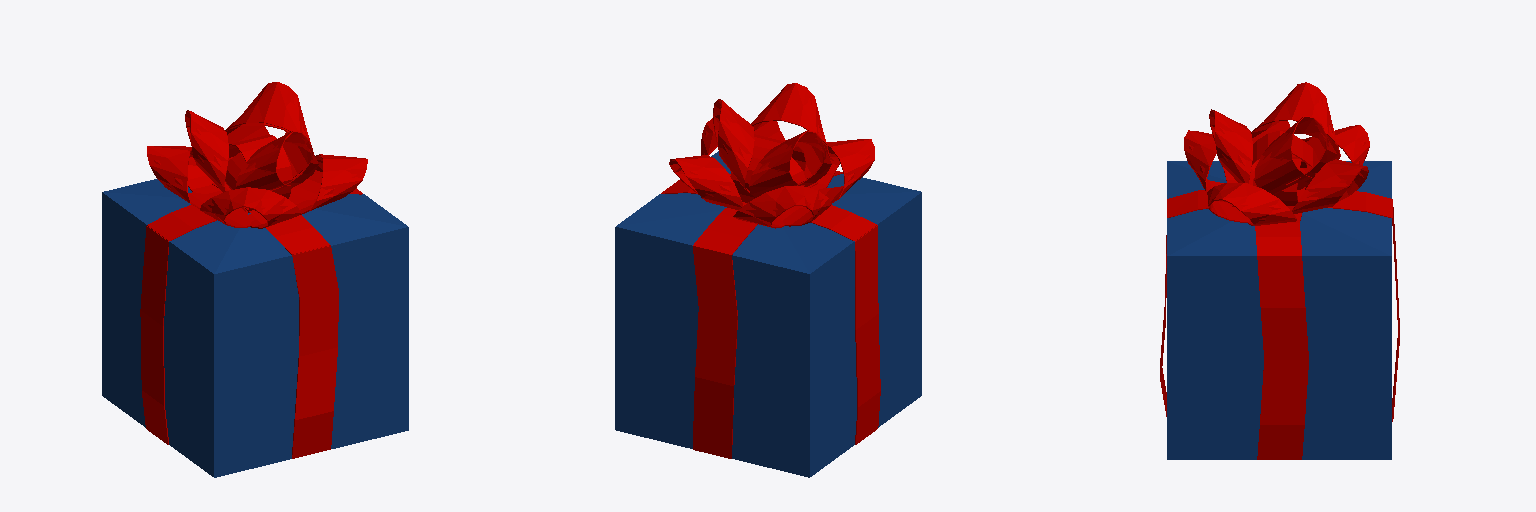
Rendered from present.obj.
The picture shows the model from 3 angles: view 1: azimuth 30°, elevation 25°; view 2: azimuth 150°, elevation 25°; view 3: azimuth 270°, elevation 25°; orthographic projection.
Visible parts, largest first — view 1: Wrap_M_PaperUn0_Plane; view 2: Wrap_M_PaperUn0_Plane; view 3: Wrap_M_PaperUn0_Plane.
Part boxes in pixels (left/top/right/bottom): Wrap_M_PaperUn0_Plane: left=102, top=82, right=408, bottom=477; Wrap_M_PaperUn0_Plane: left=615, top=83, right=921, bottom=477; Wrap_M_PaperUn0_Plane: left=1160, top=82, right=1399, bottom=459.
Size of the model in its own units: 2.1 by 3.08 by 2.13.